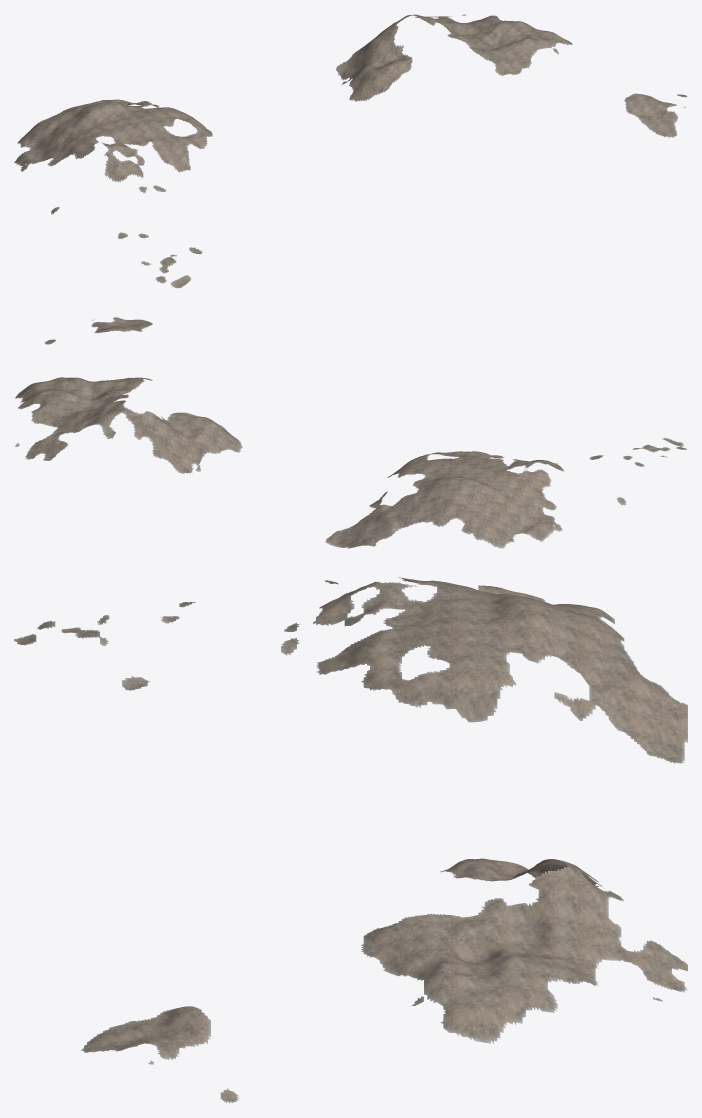
The model's file is rock_visual.dae.
3 views of the same model, one above another, from view 1: azimuth 30°, elevation 25°; view 2: azimuth 150°, elevation 25°; view 3: azimuth 270°, elevation 25° (orthographic). The views are drawn at different scales.
Parts seen in each view (by area): view 1: Terrain; view 2: Terrain; view 3: Terrain.
Part boxes in pixels (bbox=[...]): Terrain: bbox=[14, 14, 687, 288]; Terrain: bbox=[15, 317, 687, 548]; Terrain: bbox=[14, 577, 687, 1103].
Bounding box in the file's own units: 942 × 530 × 91.12.
Materials: 1 (1 with a texture image).
